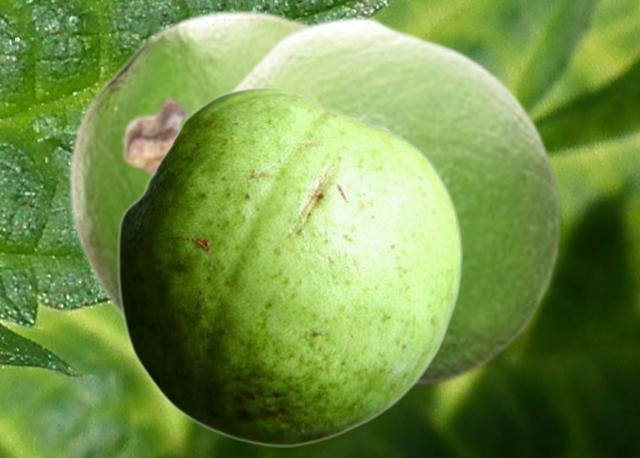guava: (119, 14, 564, 391), (117, 87, 461, 446), (66, 7, 309, 319)
